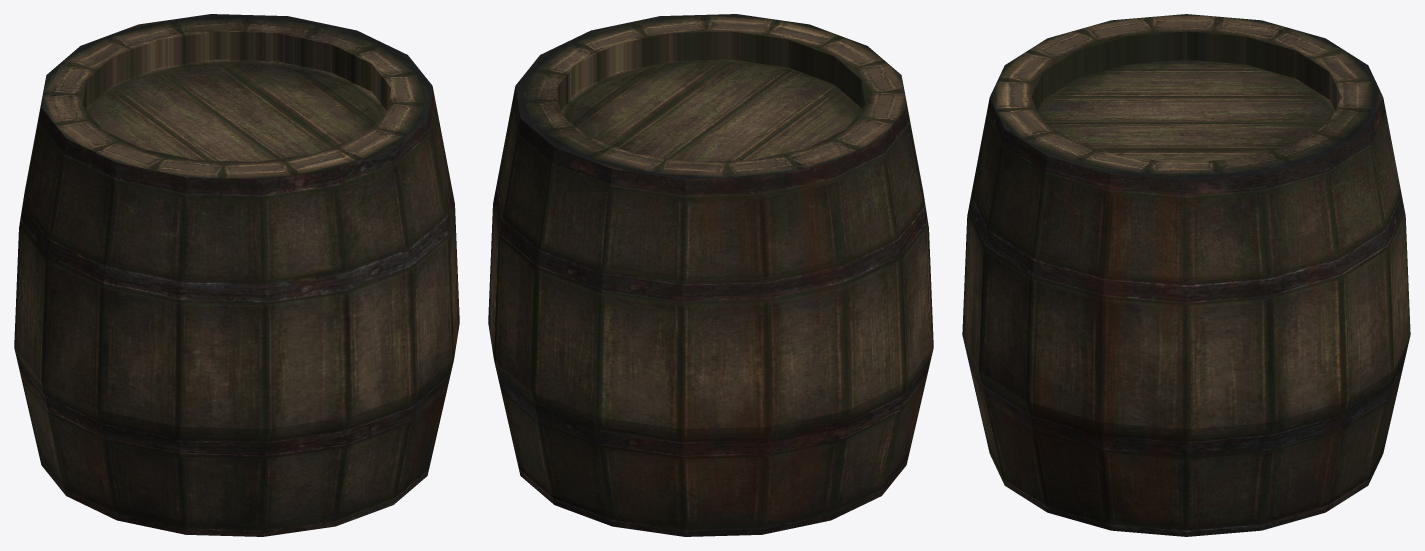
The model's file is barril.fbx.
3 renders of one model, left to right at view 1: azimuth 30°, elevation 25°; view 2: azimuth 150°, elevation 25°; view 3: azimuth 270°, elevation 25°, orthographic.
Parts seen in each view (by area): view 1: Cylinder; view 2: Cylinder; view 3: Cylinder.
Boxes of the visible parts, x1,y1,x2,y2 form: Cylinder: [14, 14, 459, 536]; Cylinder: [488, 14, 933, 536]; Cylinder: [962, 14, 1410, 536].
Bounding box in the file's own units: 228 × 200 × 228.
Materials: 1 (1 with a texture image).
